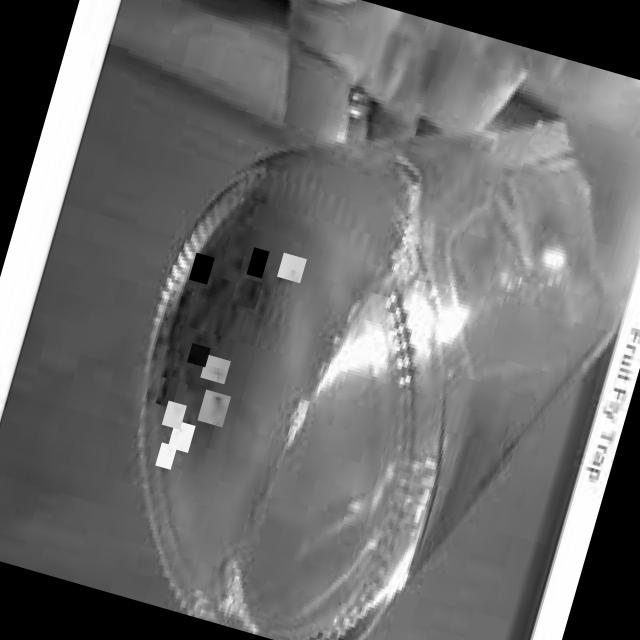fruit fly: (197, 388, 231, 426), (276, 251, 306, 282), (167, 419, 195, 452), (200, 353, 230, 383), (235, 276, 262, 308), (188, 252, 214, 284), (154, 376, 178, 408), (246, 246, 269, 278), (162, 399, 186, 428), (155, 441, 177, 468), (187, 342, 210, 366)
